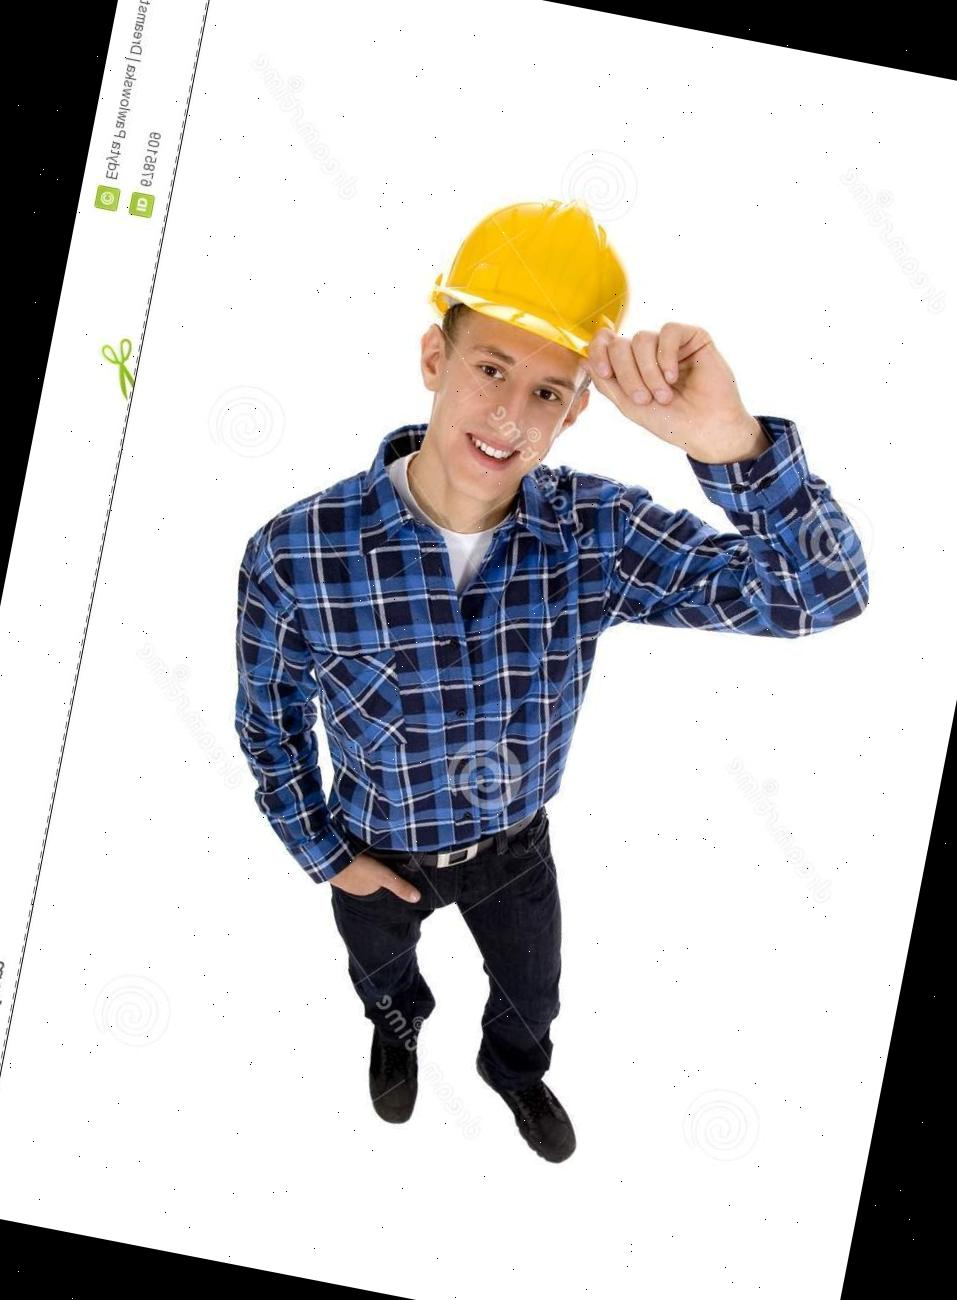helmet: (417, 178, 647, 374)
no_wear: (200, 451, 626, 879)
